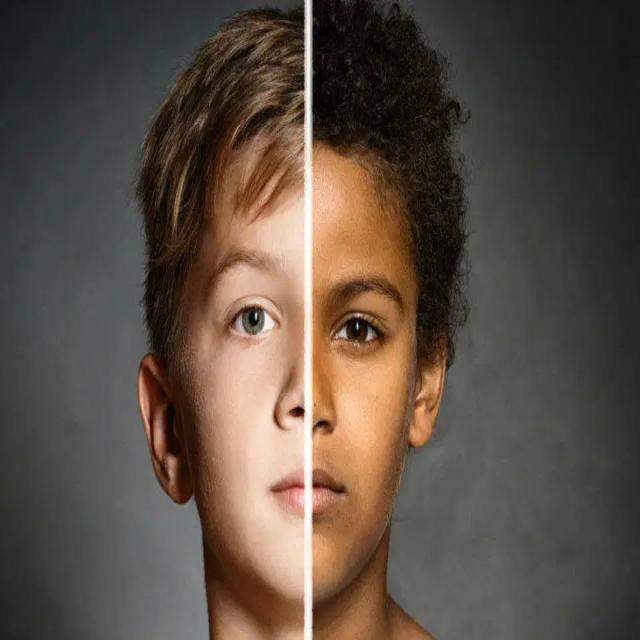sem_oculos: (137, 240, 460, 394)
